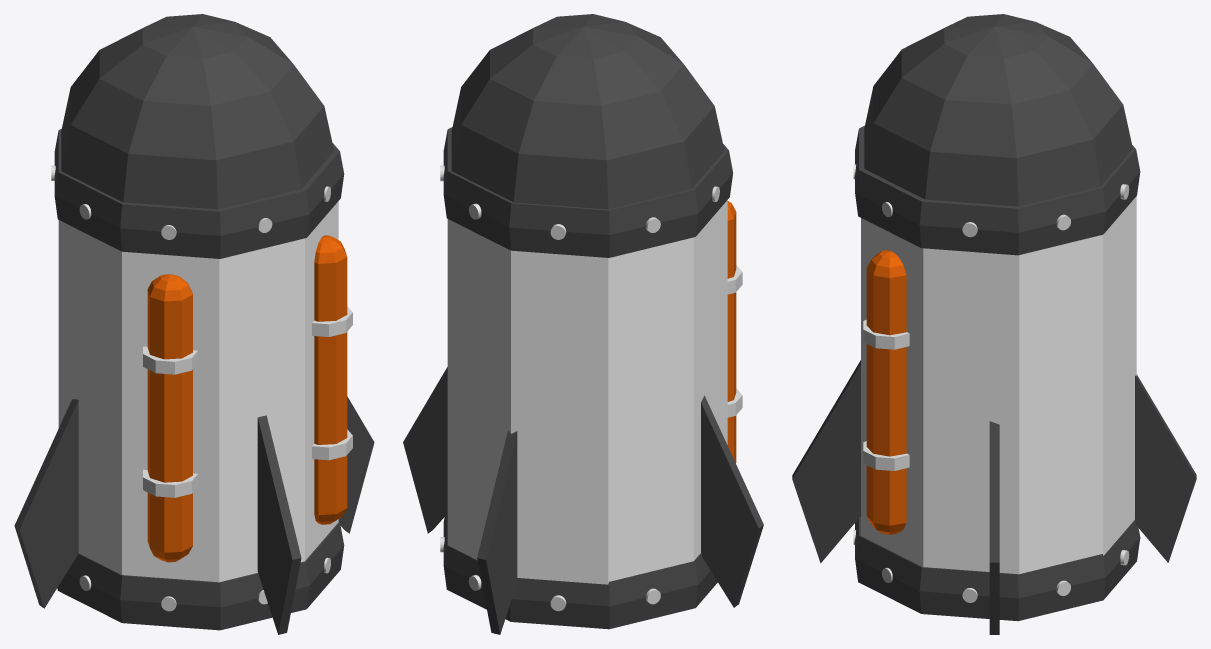
The model's file is Rocket Wide 3.fbx.
The picture shows the model from 3 angles, left to right: view 1: azimuth 30°, elevation 25°; view 2: azimuth 150°, elevation 25°; view 3: azimuth 270°, elevation 25°; orthographic projection.
Parts seen in each view (by area): view 1: Цилиндр.003; view 2: Цилиндр.003; view 3: Цилиндр.003.
Boxes of the visible parts, <box> form: Цилиндр.003: <box>14,14,374,634</box>; Цилиндр.003: <box>403,14,763,634</box>; Цилиндр.003: <box>792,14,1196,634</box>.
Bounding box in the file's own units: 401 × 584 × 401.
